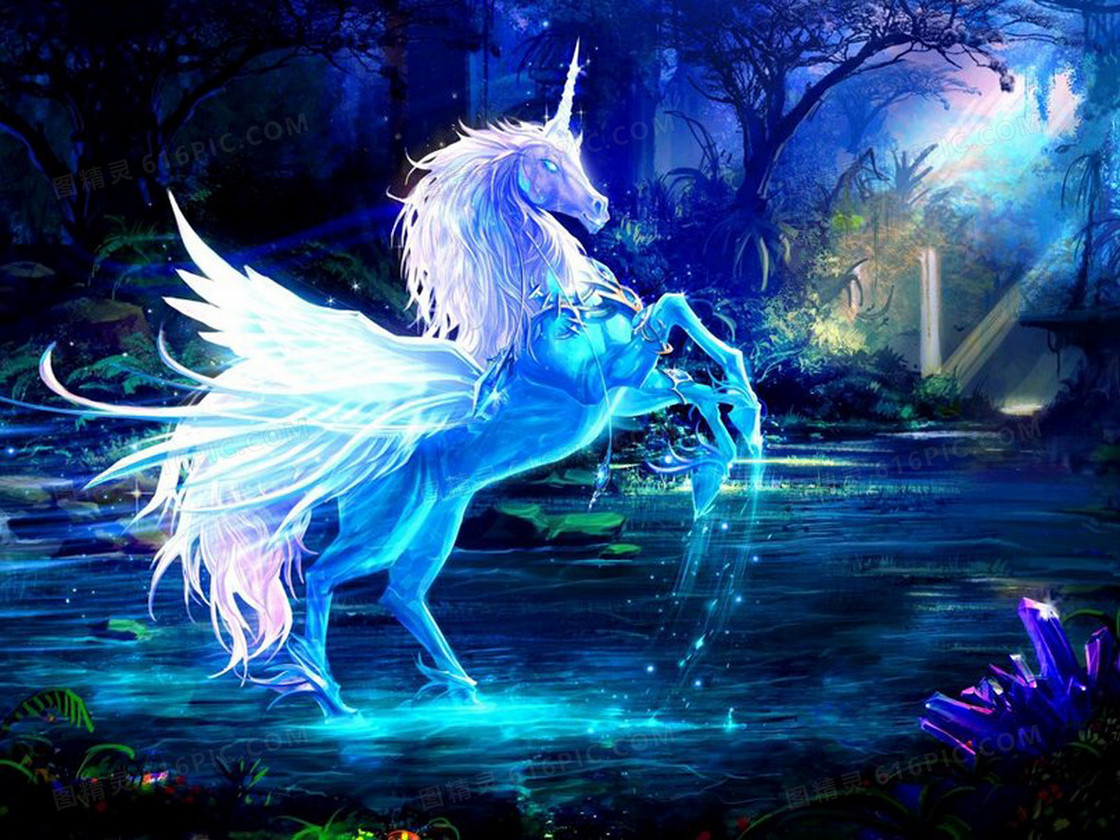background: (41, 85, 763, 722)
